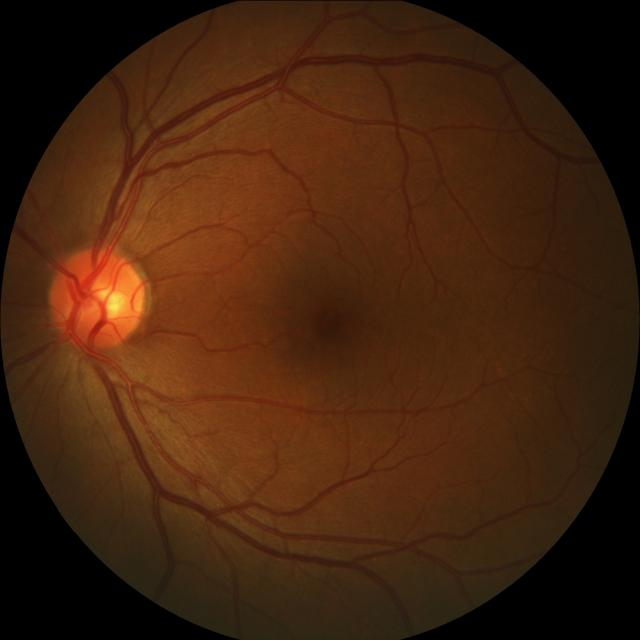OC: (80, 275, 126, 325)
OD: (49, 246, 148, 348)
